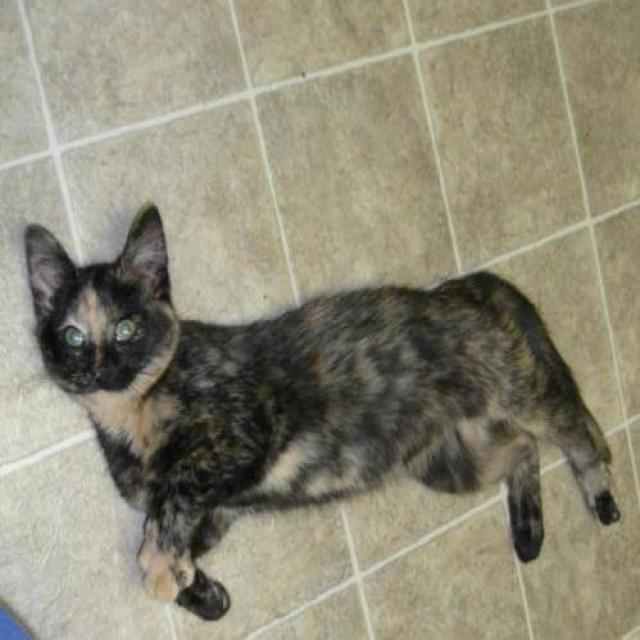cat: (23, 199, 621, 621)
